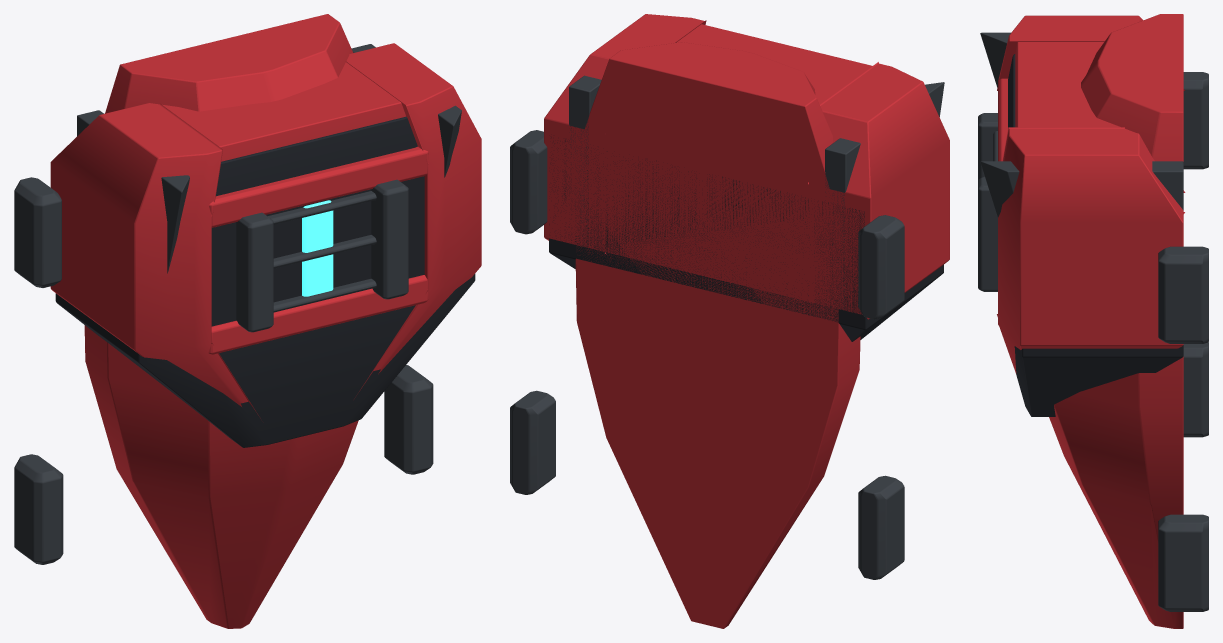
The model's file is ThighFront_Set03_Overclock.fbx.
The picture shows the model from 3 angles, left to right: view 1: azimuth 30°, elevation 25°; view 2: azimuth 150°, elevation 25°; view 3: azimuth 270°, elevation 25°; orthographic projection. The views are drawn at different scales.
Visible parts, largest first — view 1: ThighFront_Set03_Overclock; view 2: ThighFront_Set03_Overclock; view 3: ThighFront_Set03_Overclock.
Boxes of the visible parts, x1,y1,x2,y2 form: ThighFront_Set03_Overclock: (14,14,481,628); ThighFront_Set03_Overclock: (510,14,949,628); ThighFront_Set03_Overclock: (978,14,1208,628).
Bounding box in the file's own units: 0.53 × 0.73 × 0.2736.
